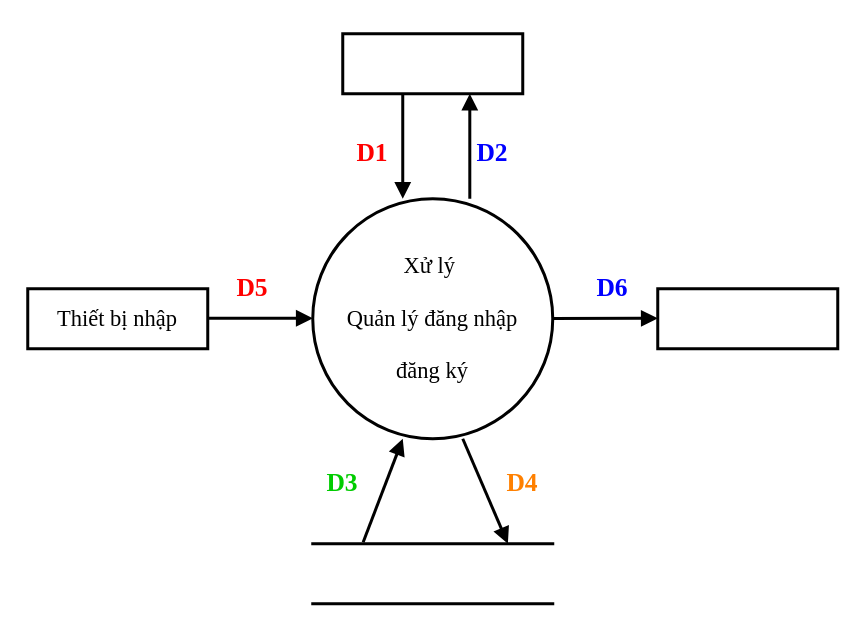
Some shapes in this 864 by 630 pixel diagram are drawn without their labels. The centre of each missing label's shape, as x and y in pixels:
"Nhân viên" goes at pixel 432 63.
"Thiết bị xuất" goes at pixel 747 318.
